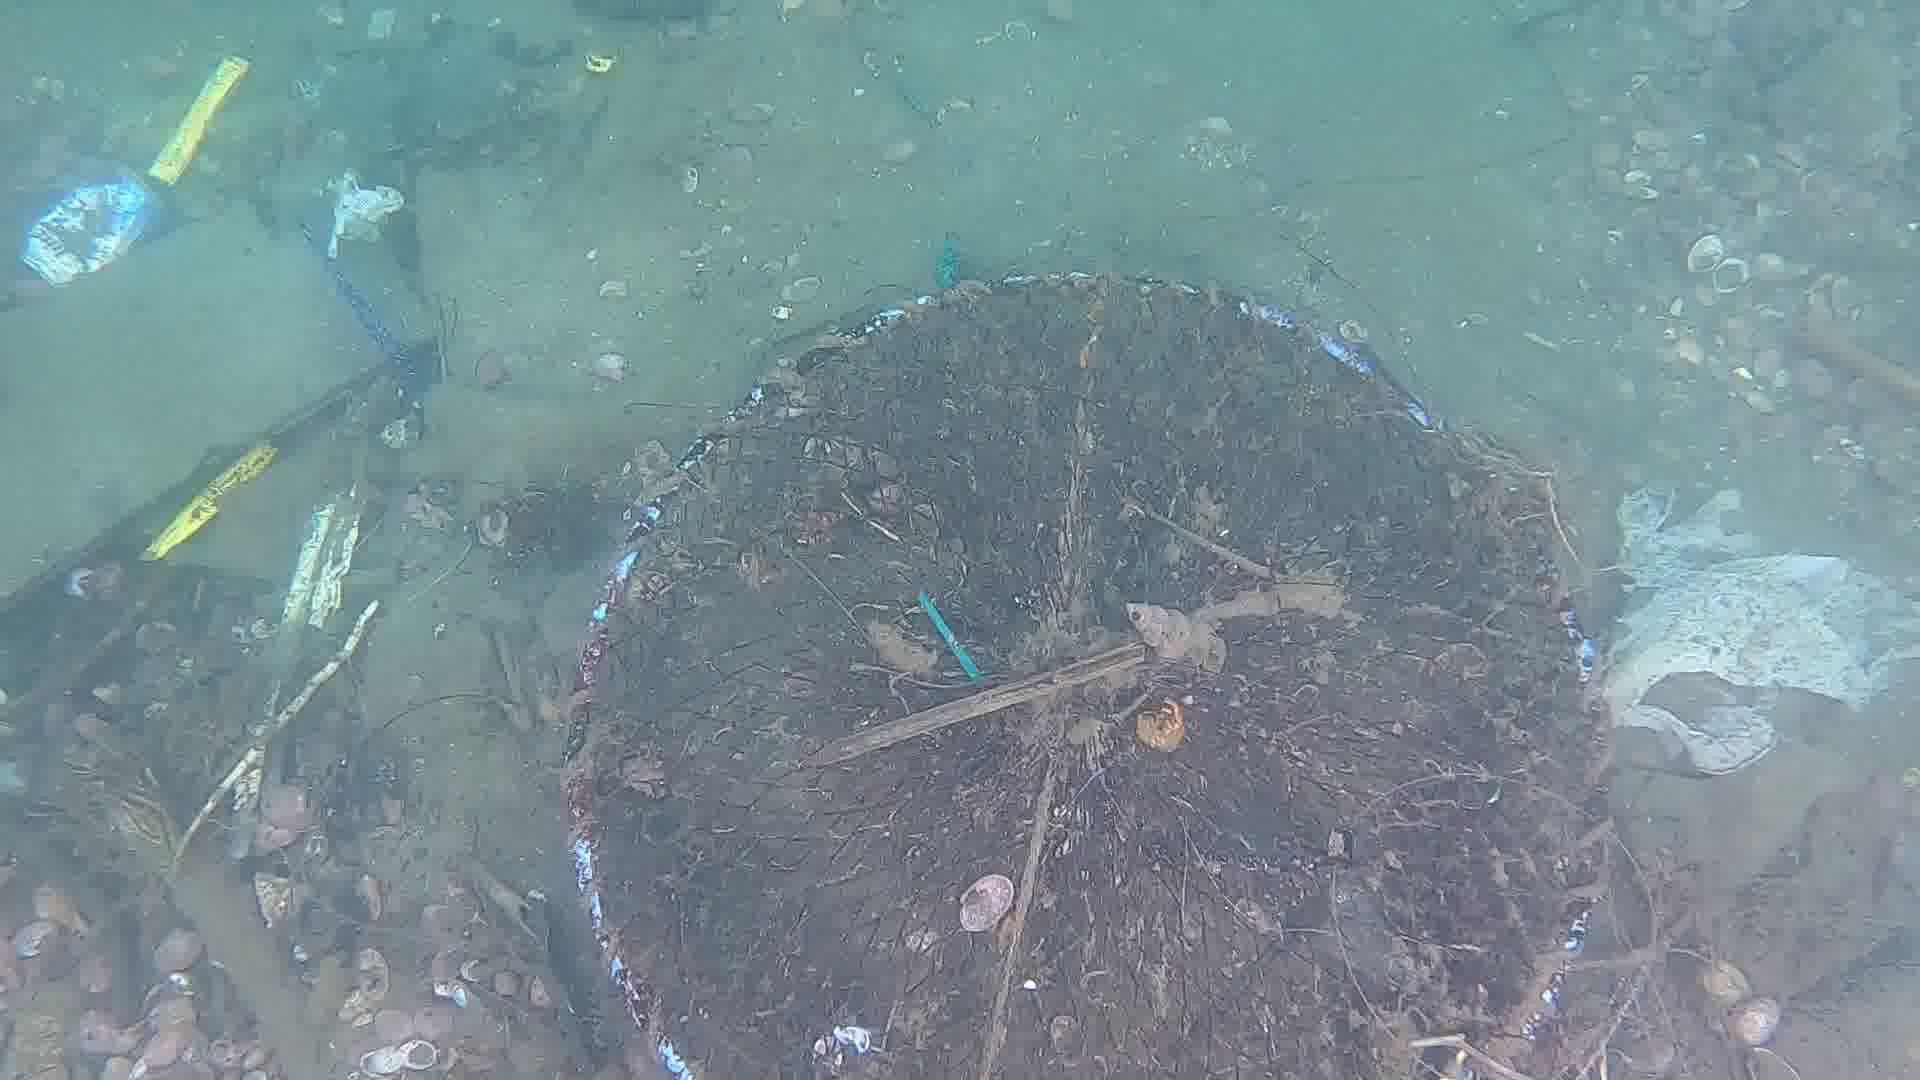circular fish trap: (555, 269, 1605, 1080)
